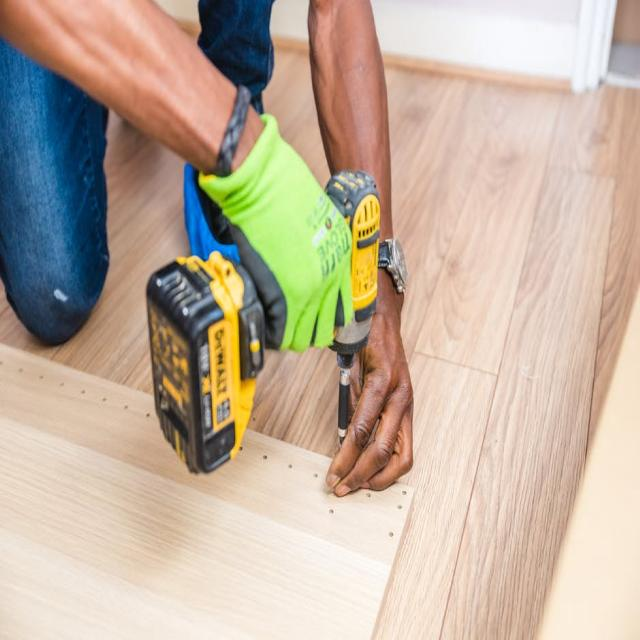gloves: (196, 105, 359, 352)
